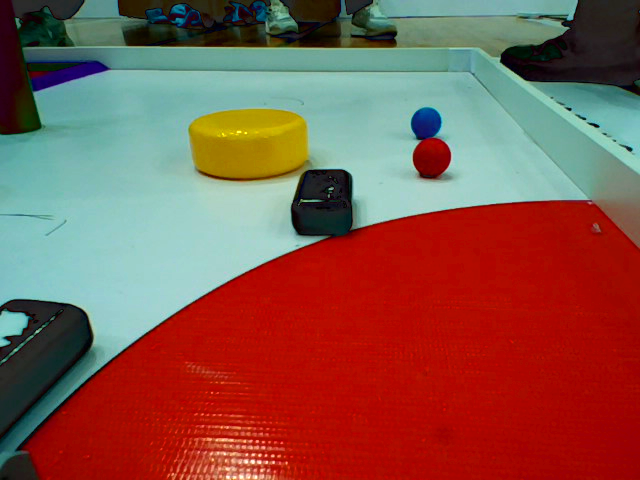black: (1, 292, 101, 448), (292, 166, 371, 252)
blue: (405, 106, 452, 148)
kuang: (1, 51, 128, 99)
red: (412, 132, 470, 181)
yellow: (182, 95, 317, 173)
zhuzi: (1, 1, 52, 139)
